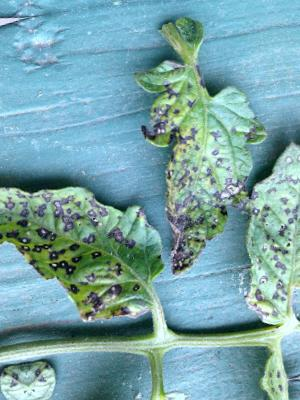Tomato Septoria leaf spot: (120, 0, 280, 289), (0, 159, 167, 335), (216, 124, 300, 339)
